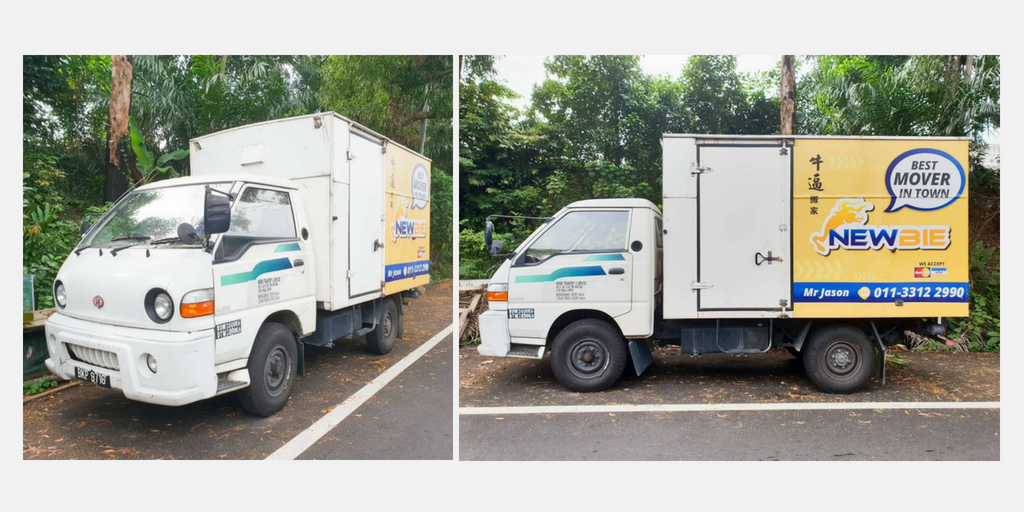truck: (478, 133, 972, 394), (45, 111, 429, 417)
